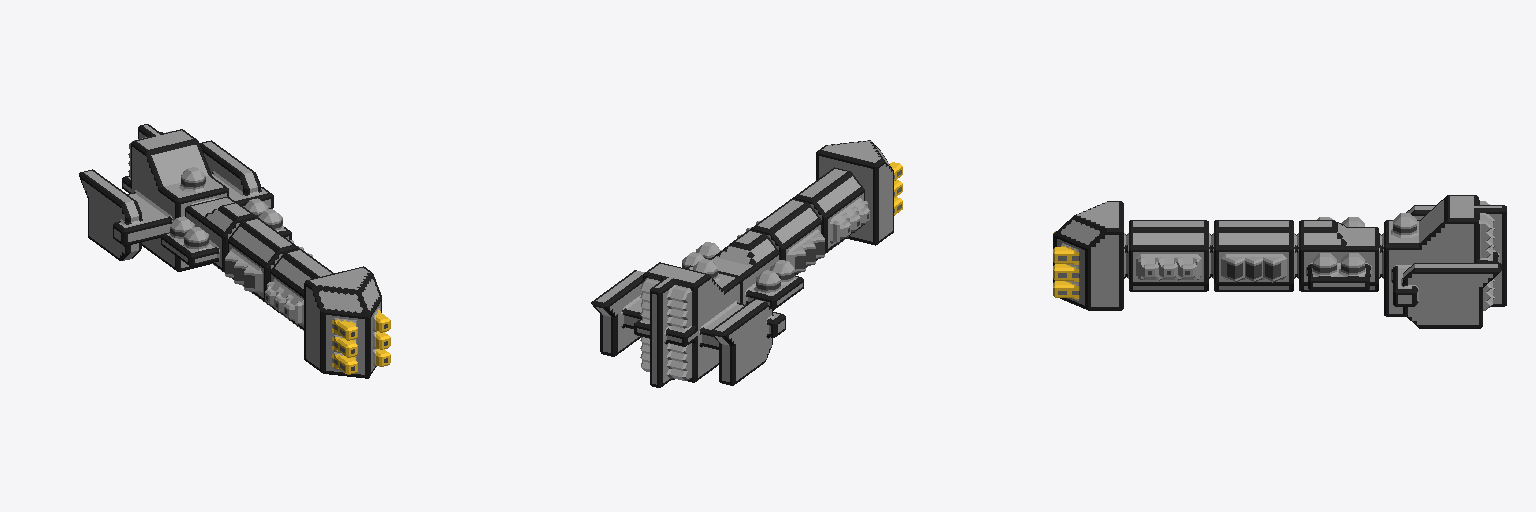
The picture shows the model from 3 angles: view 1: azimuth 30°, elevation 25°; view 2: azimuth 150°, elevation 25°; view 3: azimuth 270°, elevation 25°; orthographic projection.
Size of the model in its own units: 37 by 23 by 96.
1 materials, 1 textured.